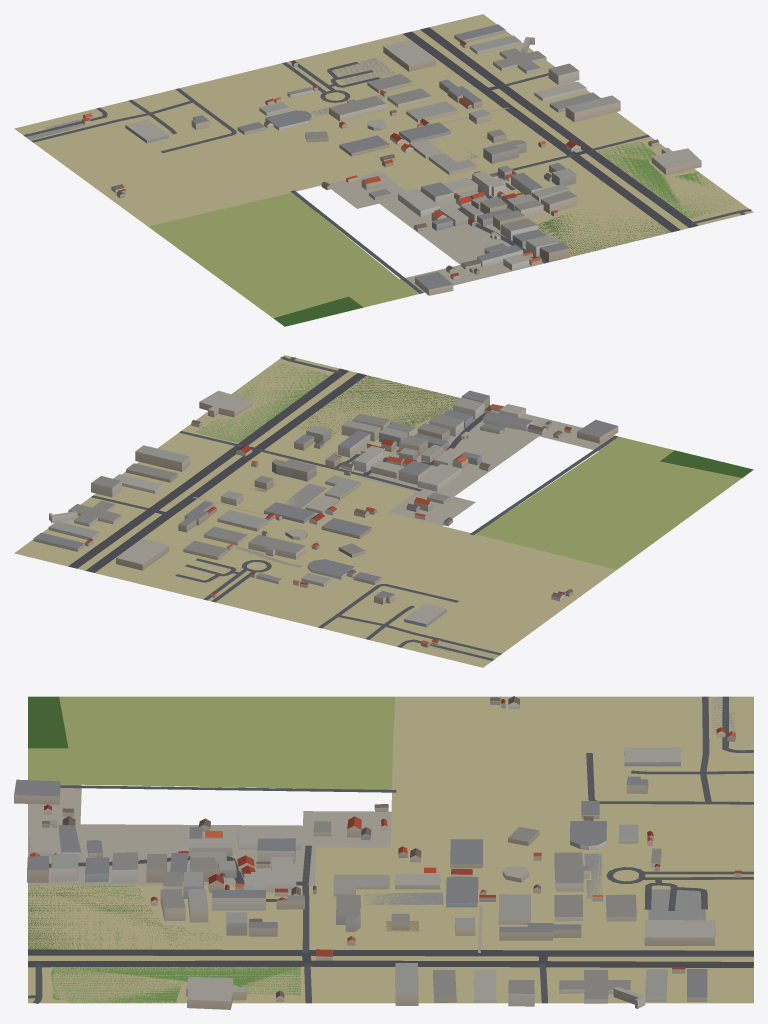
3 renders of one model, top to bottom at view 1: azimuth 30°, elevation 25°; view 2: azimuth 150°, elevation 25°; view 3: azimuth 270°, elevation 25°, orthographic. The views are drawn at different scales.
Parts seen in each view (by area): view 1: landuse, buildings_roofs, buildings_walls, roads; view 2: landuse, buildings_roofs, buildings_walls, roads; view 3: landuse, buildings_roofs, roads, buildings_walls.
Boxes of the visible parts, box(x1,y1,x2,y2) form: landuse: box(14, 14, 753, 326); buildings_roofs: box(83, 24, 701, 289); buildings_walls: box(81, 30, 701, 295); roads: box(23, 27, 751, 293); landuse: box(14, 355, 753, 667); buildings_roofs: box(34, 390, 617, 644); buildings_walls: box(33, 396, 618, 647); roads: box(68, 356, 618, 660); landuse: box(28, 696, 753, 1003); buildings_roofs: box(14, 696, 741, 1001); roads: box(28, 696, 753, 1003); buildings_walls: box(14, 698, 741, 1009).
Bounding box in the file's own units: 511 × 9.63 × 510.
